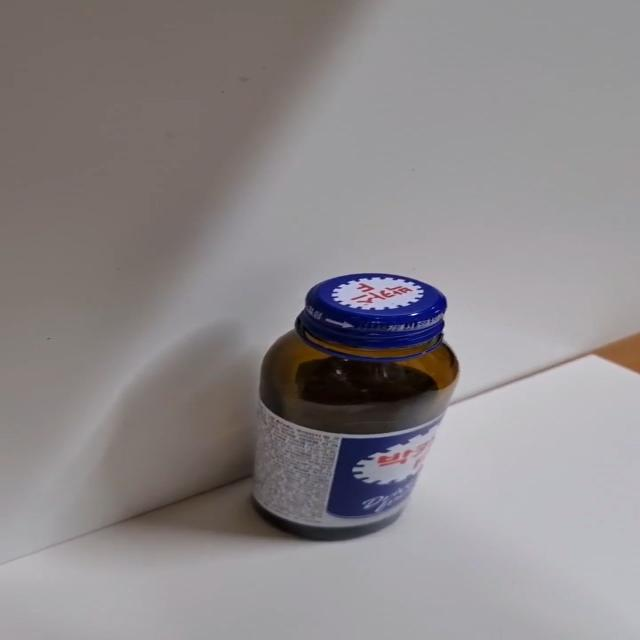Glass: (250, 272, 461, 544)
